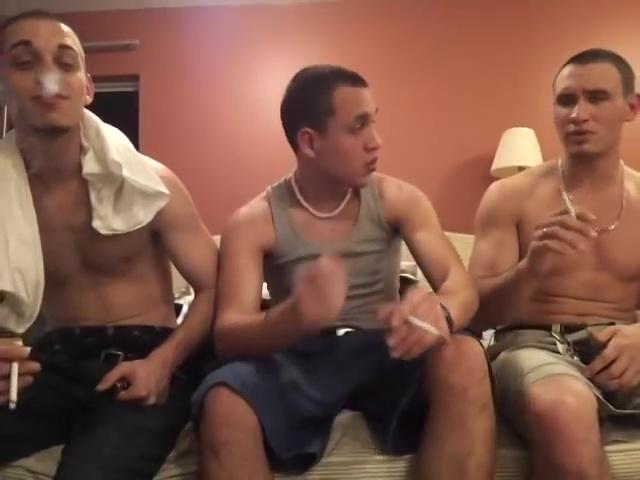cigarette: (551, 179, 583, 221), (404, 312, 443, 342), (5, 354, 22, 414)
